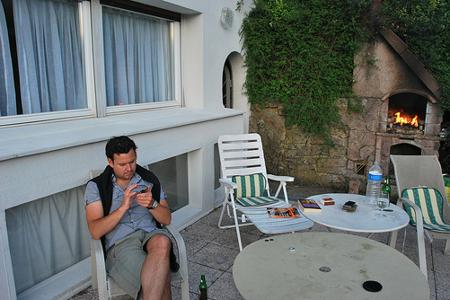person: (84, 136, 181, 299)
